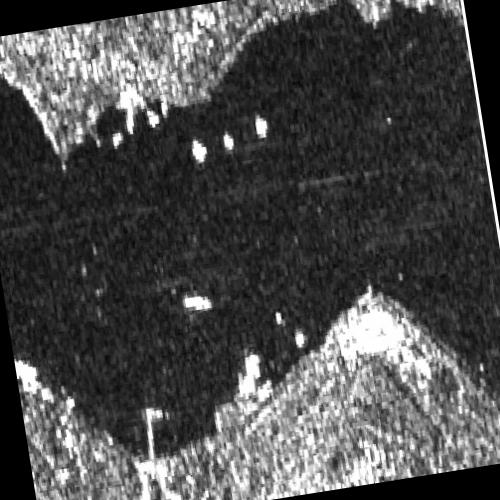ship: (182, 295, 213, 311)
